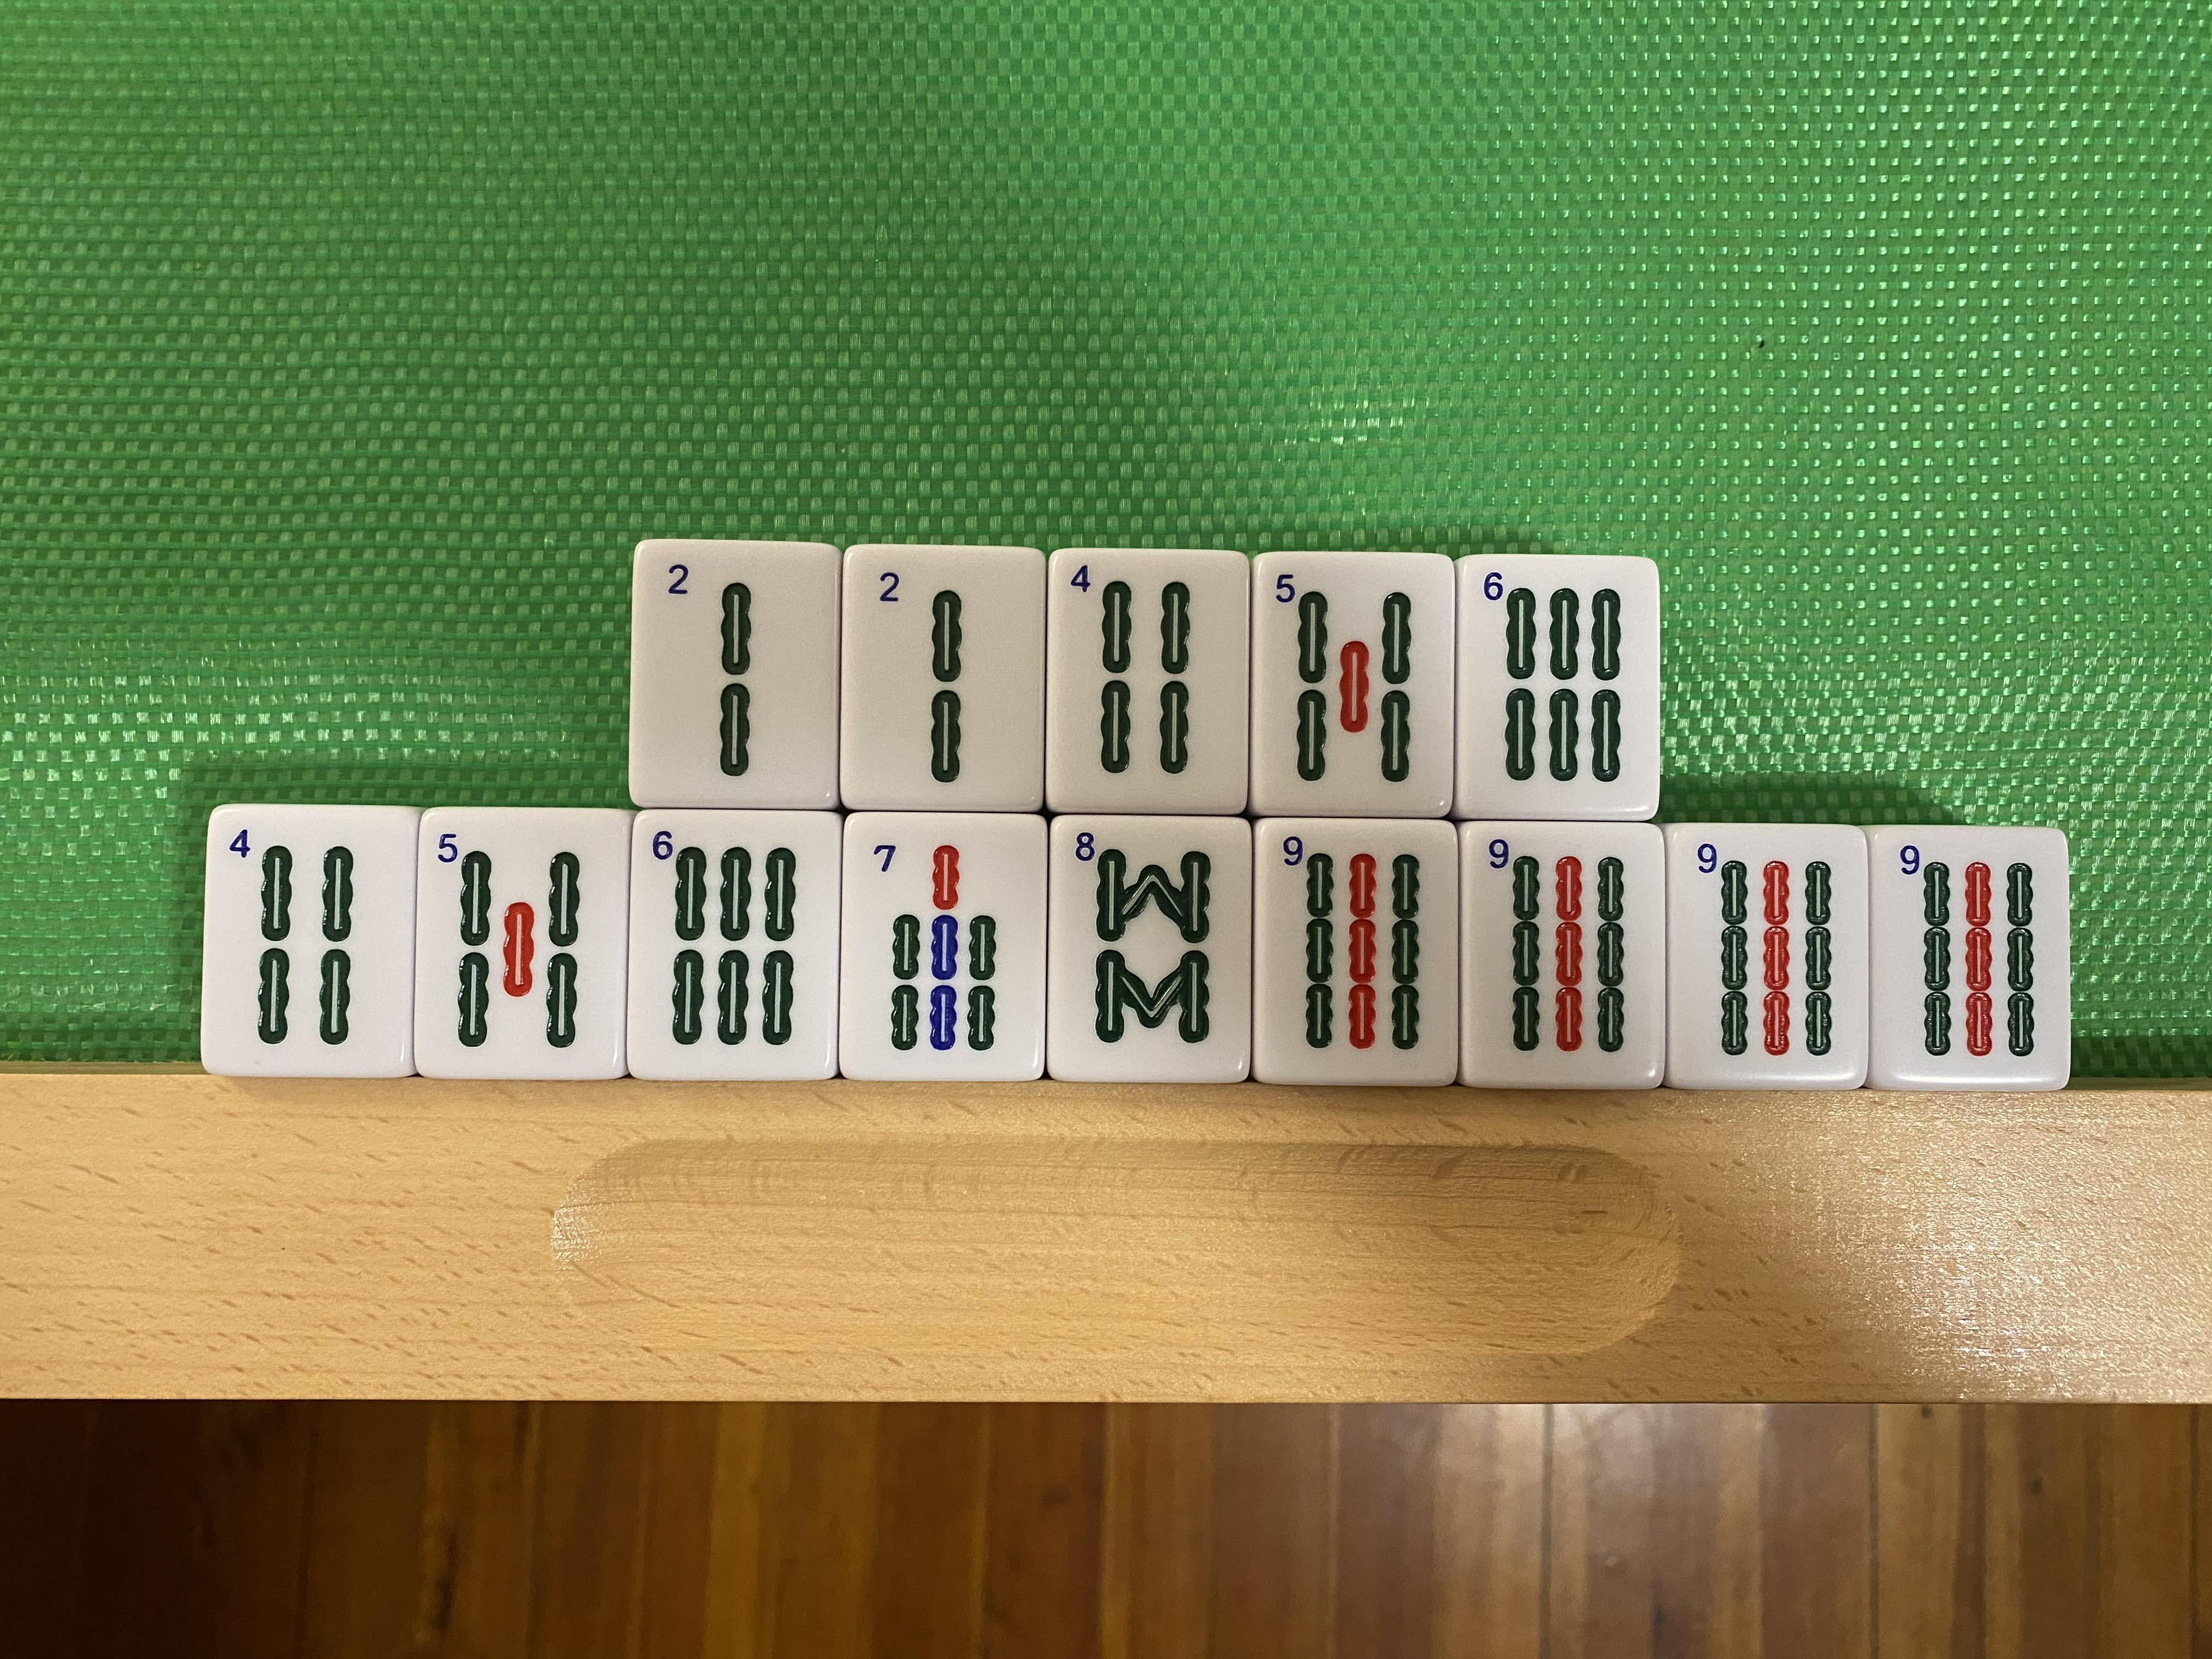bamboo-eight: (1049, 819, 1251, 1082)
bamboo-five: (420, 812, 624, 1075), (1252, 558, 1454, 809)
bamboo-four: (204, 810, 416, 1073), (1050, 552, 1247, 807)
bamboo-nine: (1258, 823, 1454, 1080), (1465, 826, 1660, 1080), (1672, 828, 1862, 1082), (1878, 833, 2066, 1082)
bamboo-seven: (843, 817, 1045, 1075)
bamboo-six: (632, 816, 834, 1077), (1461, 558, 1655, 812)
bamboo-two: (632, 544, 840, 802), (846, 547, 1042, 803)
